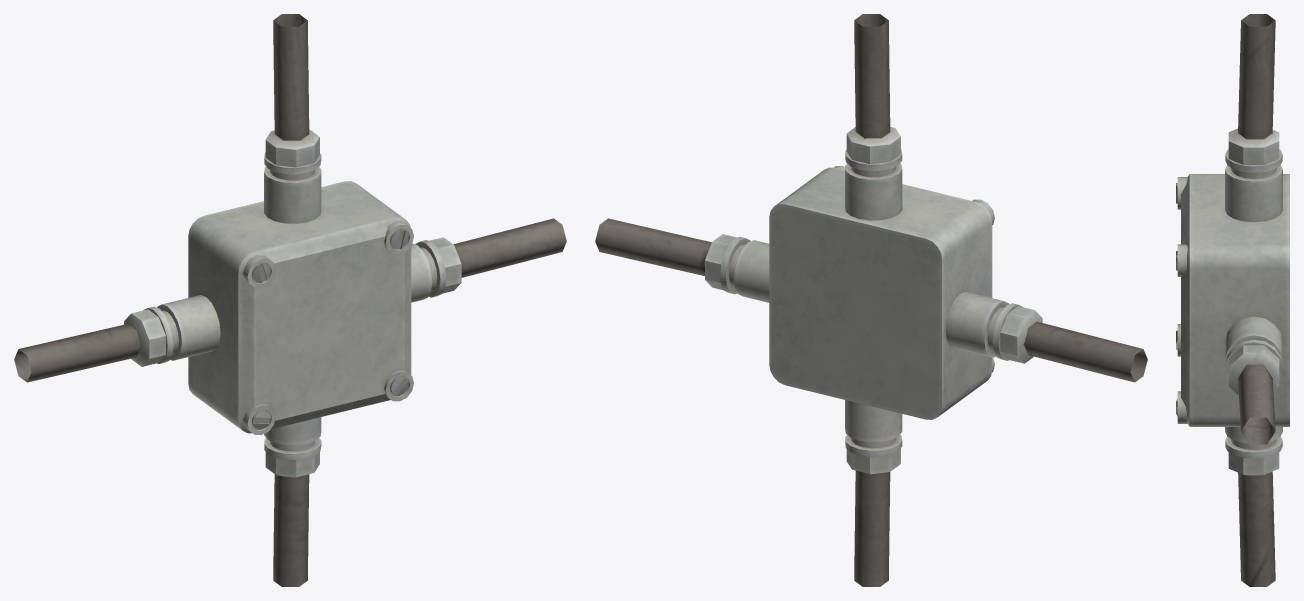
The model's file is cable_box_4way.glb.
3 views of the same model, side by side, from view 1: azimuth 30°, elevation 25°; view 2: azimuth 150°, elevation 25°; view 3: azimuth 270°, elevation 25° (orthographic).
Visible parts, largest first — view 1: cable_box_4way.001; view 2: cable_box_4way.001; view 3: cable_box_4way.001.
Boxes of the visible parts, x1,y1,x2,y2 form: cable_box_4way.001: (14, 14, 566, 586); cable_box_4way.001: (595, 14, 1147, 586); cable_box_4way.001: (1176, 14, 1289, 586).
Size of the model in its own units: 0.2 by 0.2 by 0.0369.
Materials: 1 (1 with a texture image).
